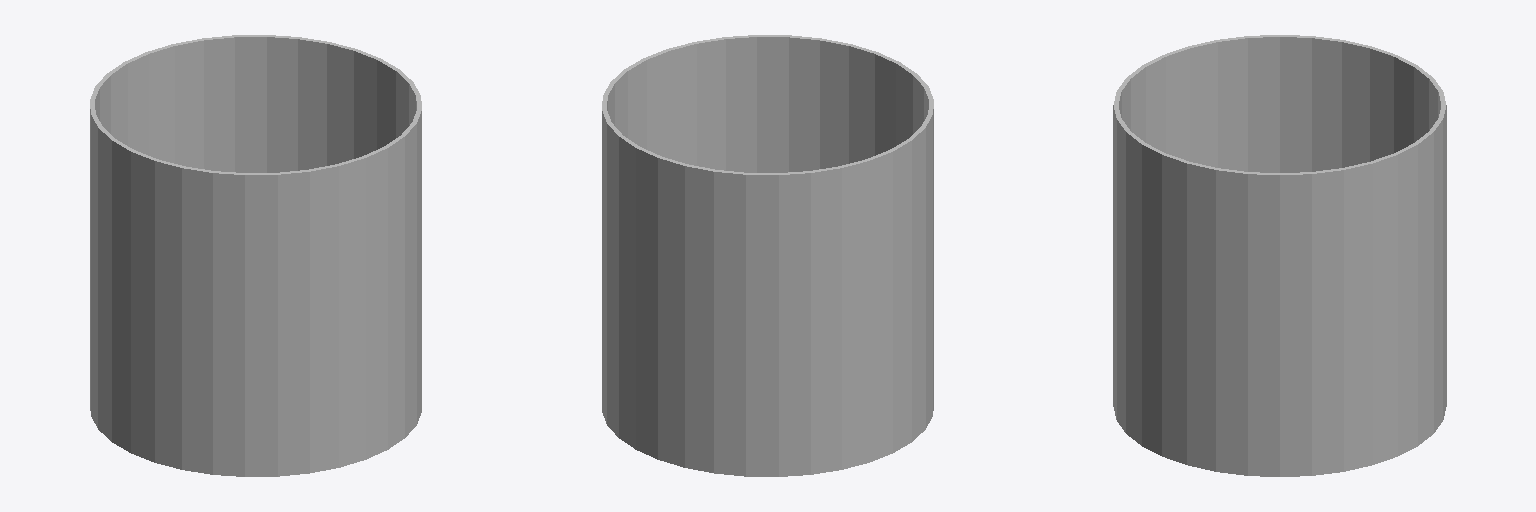
The model's file is holo.obj.
The picture shows the model from 3 angles: view 1: azimuth 30°, elevation 25°; view 2: azimuth 150°, elevation 25°; view 3: azimuth 270°, elevation 25°; orthographic projection.
Parts seen in each view (by area): view 1: Cylinder; view 2: Cylinder; view 3: Cylinder.
Boxes of the visible parts, x1=… form: Cylinder: x1=90, y1=35, x2=421, y2=476; Cylinder: x1=602, y1=35, x2=933, y2=476; Cylinder: x1=1113, y1=35, x2=1446, y2=476.
Size of the model in its own units: 2.77 by 2.77 by 2.77.